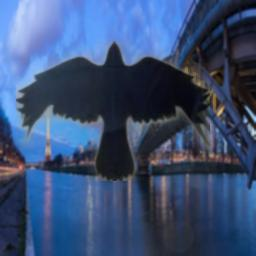Crow: (16, 41, 210, 181)
